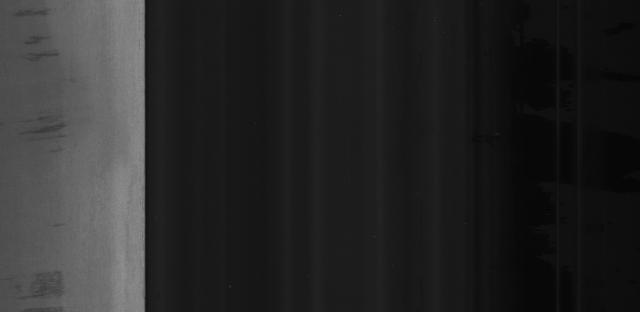water_spot: (5, 2, 79, 304)
